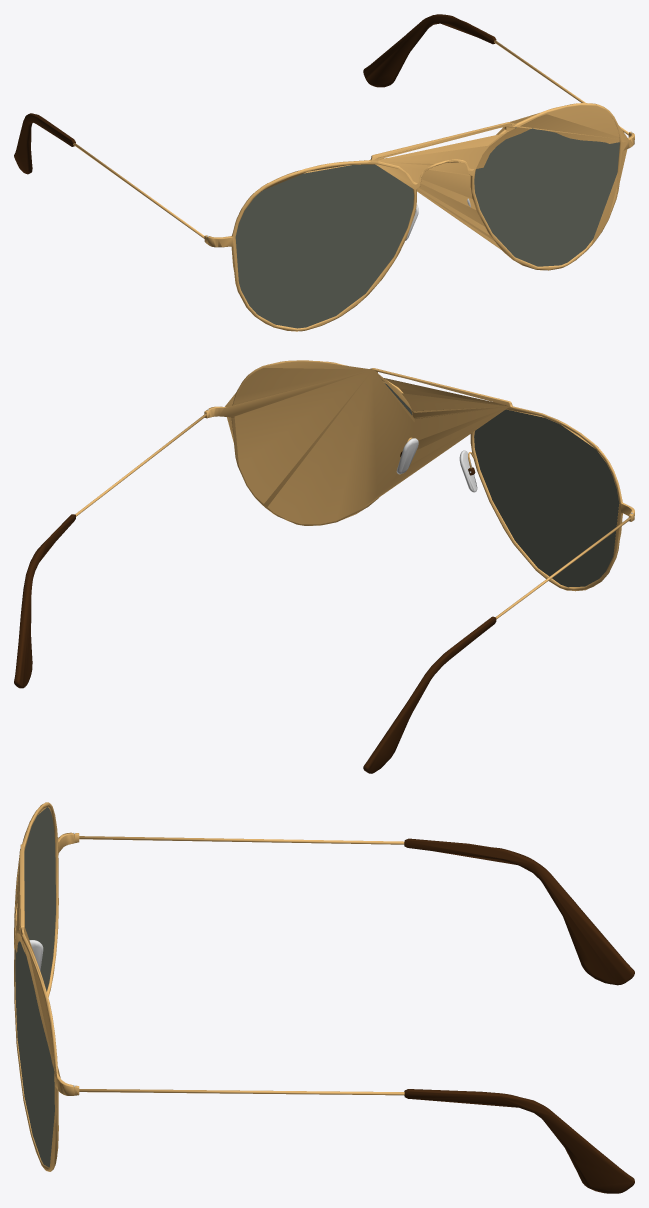
Rendered from aviator.fbx.
The picture shows the model from 3 angles, top to bottom: view 1: azimuth 30°, elevation 25°; view 2: azimuth 150°, elevation 25°; view 3: azimuth 270°, elevation 25°; orthographic projection. The views are drawn at different scales.
Parts seen in each view (by area): view 1: Aviators; view 2: Aviators; view 3: Aviators.
Boxes of the visible parts, x1,y1,x2,y2 form: Aviators: (14, 14, 634, 331); Aviators: (14, 360, 634, 773); Aviators: (14, 802, 634, 1193).
Size of the model in its own units: 13.96 by 5.22 by 14.4.
